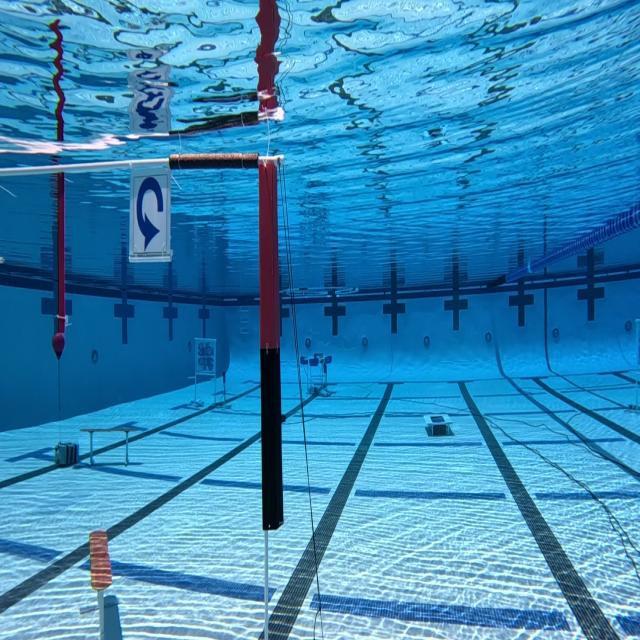blue_side: (128, 160, 173, 264)
